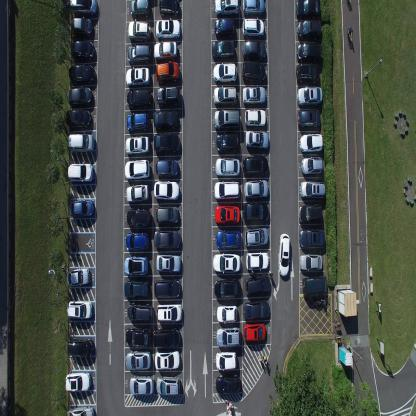car: (64, 370, 92, 394), (243, 178, 269, 202), (155, 251, 182, 274), (215, 227, 242, 250), (152, 132, 180, 154), (66, 337, 94, 359), (298, 227, 326, 249), (242, 201, 270, 223), (68, 64, 96, 86), (64, 107, 92, 129), (67, 131, 95, 153), (212, 252, 241, 273), (245, 273, 270, 297), (127, 18, 152, 42), (124, 158, 150, 181), (128, 374, 154, 397), (215, 325, 241, 348), (244, 298, 270, 321), (155, 85, 181, 108), (153, 179, 180, 201), (153, 227, 180, 249), (153, 326, 180, 348), (154, 347, 181, 369), (301, 275, 328, 297), (296, 85, 323, 107), (242, 155, 269, 177), (213, 108, 240, 130), (66, 86, 93, 108), (67, 162, 94, 184), (154, 277, 182, 298), (213, 179, 241, 200), (278, 231, 290, 279), (245, 128, 269, 152), (300, 131, 323, 156), (125, 65, 150, 88), (152, 109, 178, 131), (244, 226, 270, 248), (241, 84, 267, 106), (215, 156, 241, 178), (155, 18, 181, 40), (125, 326, 152, 347), (213, 278, 240, 299), (155, 302, 183, 322), (125, 229, 149, 252), (298, 201, 322, 224), (297, 107, 321, 130), (296, 62, 320, 85), (297, 18, 321, 41), (127, 86, 151, 109), (127, 42, 151, 65), (156, 374, 181, 396), (126, 349, 151, 371), (123, 254, 148, 276), (126, 206, 151, 228), (240, 61, 265, 83), (214, 203, 239, 225), (212, 62, 237, 84), (155, 61, 180, 83), (296, 42, 322, 63), (68, 198, 95, 218), (155, 202, 179, 224), (125, 135, 149, 157), (155, 156, 179, 178), (125, 182, 149, 204), (242, 40, 266, 62), (213, 85, 237, 107), (70, 16, 94, 38), (72, 40, 96, 62), (153, 41, 178, 62), (66, 301, 92, 321), (300, 178, 326, 198), (295, 0, 322, 19), (300, 154, 323, 176), (211, 38, 234, 60), (214, 16, 236, 39), (216, 373, 240, 394), (216, 132, 240, 153), (65, 267, 90, 287), (127, 303, 153, 322), (123, 279, 149, 298), (215, 349, 237, 371), (126, 112, 148, 134), (216, 302, 238, 324), (299, 252, 322, 273), (245, 250, 269, 270), (69, 0, 98, 16), (244, 107, 266, 128), (241, 18, 264, 38), (213, 0, 239, 17), (243, 323, 266, 342), (129, 0, 151, 18), (243, 0, 266, 17), (159, 0, 180, 18), (67, 406, 95, 416)
